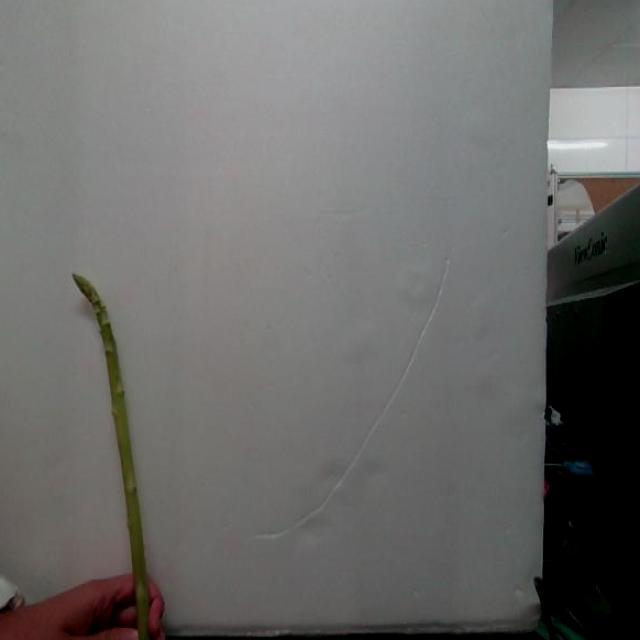aspargus: (72, 275, 157, 640)
